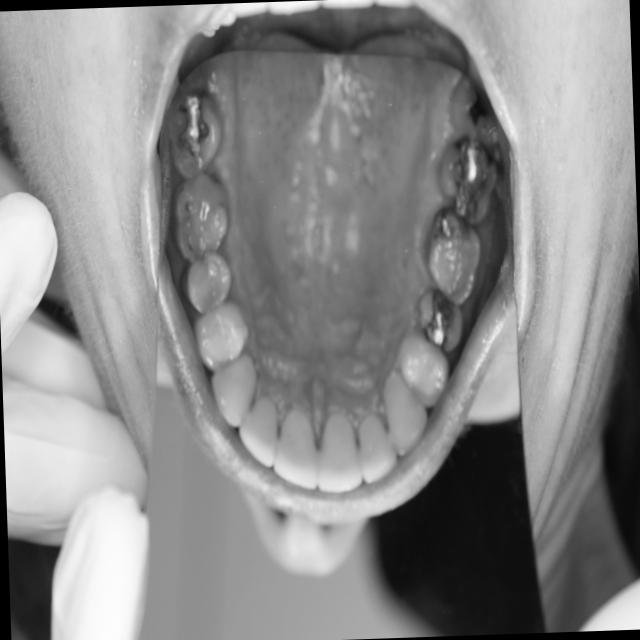tooth: (416, 189, 485, 307), (433, 123, 504, 233), (167, 169, 239, 268), (198, 340, 264, 437), (313, 388, 368, 504), (185, 286, 258, 373), (386, 316, 454, 408), (268, 384, 323, 497), (370, 362, 434, 454), (441, 70, 509, 154), (234, 367, 283, 479), (167, 91, 226, 183), (172, 241, 239, 318), (411, 275, 469, 361), (349, 402, 402, 489)
